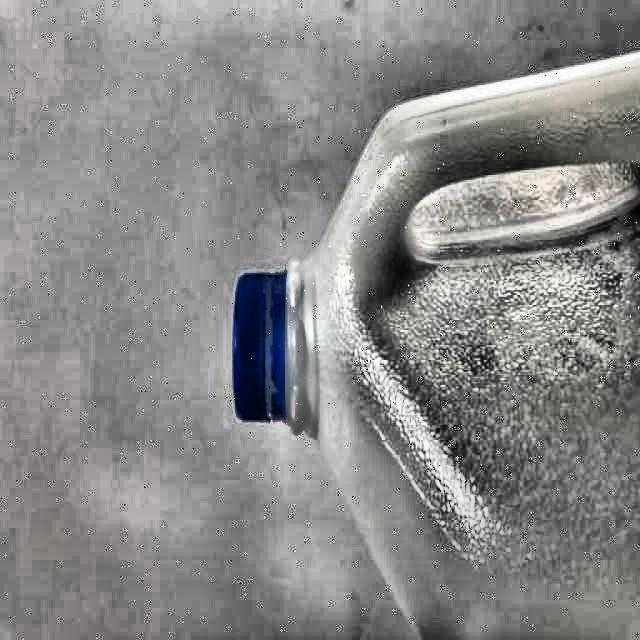plastic: (233, 50, 640, 640)
